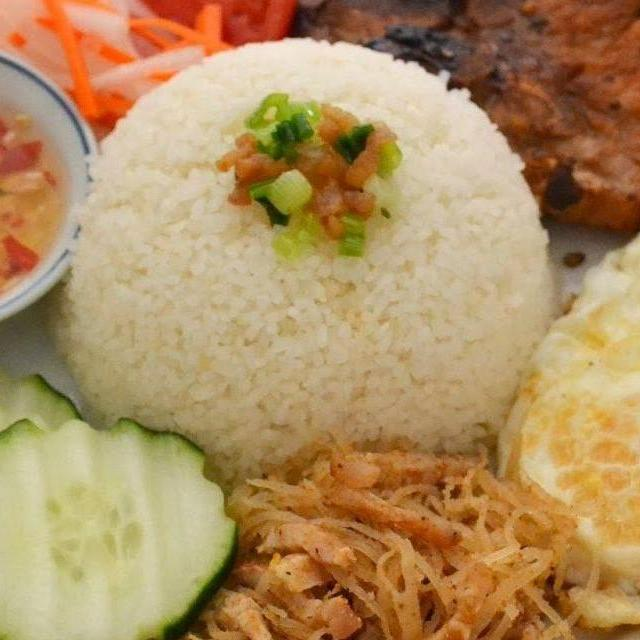bi: (96, 427, 602, 640)
com: (38, 29, 566, 498)
com suon bi trung: (0, 0, 640, 640)
dua chua: (0, 0, 239, 152)
suon: (280, 0, 640, 235)
trung: (487, 157, 640, 640)
